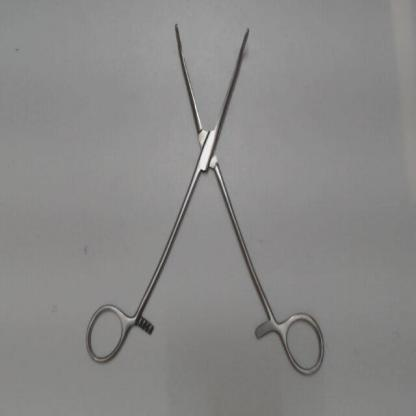Lahey Forceps: (75, 13, 336, 380)
